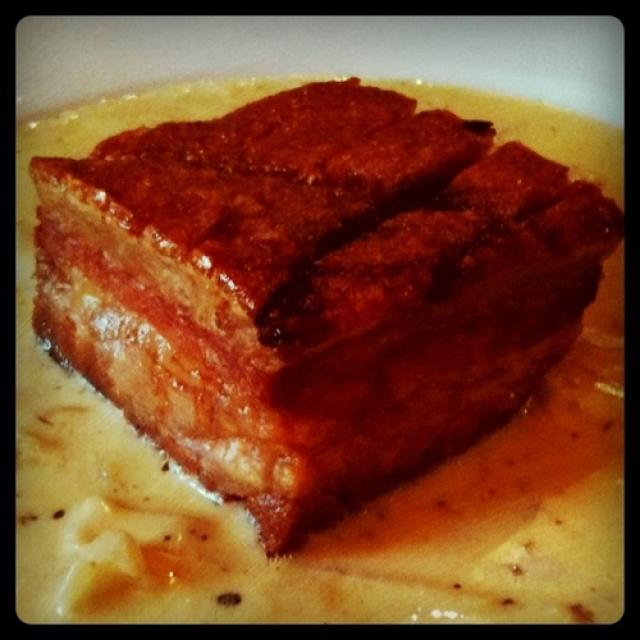牛肉菜式: (26, 45, 599, 567)
